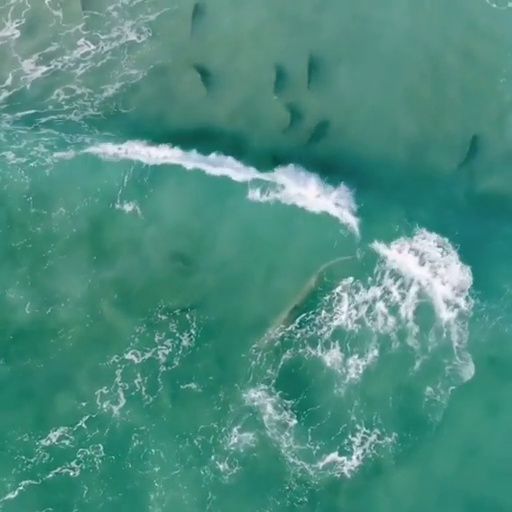shark: (250, 253, 356, 351)
